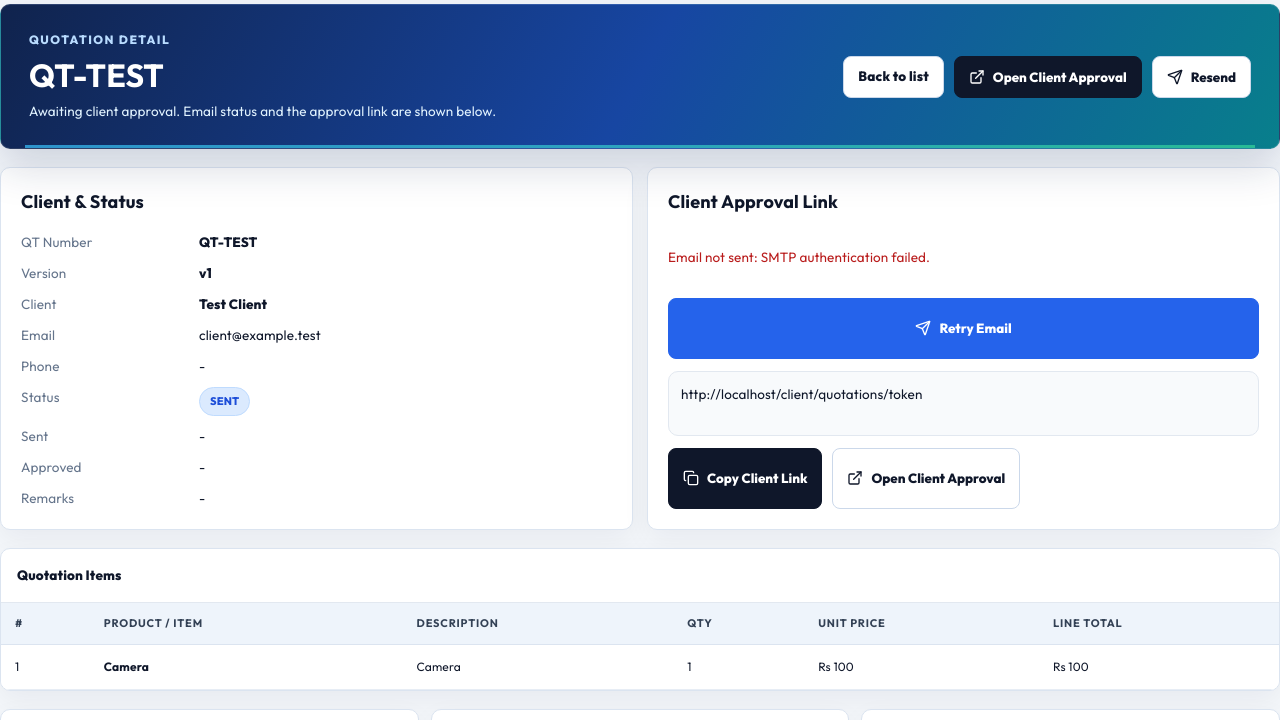
Test case: quotation email and refresh UI › shows a persistent email failure and retries through the backend
Check: the text "Email not sent: SMTP authentication failed." is shown, box [668,248,930,266]
Click the button "Retry Email" at (964, 328), box [668,298,1259,359]
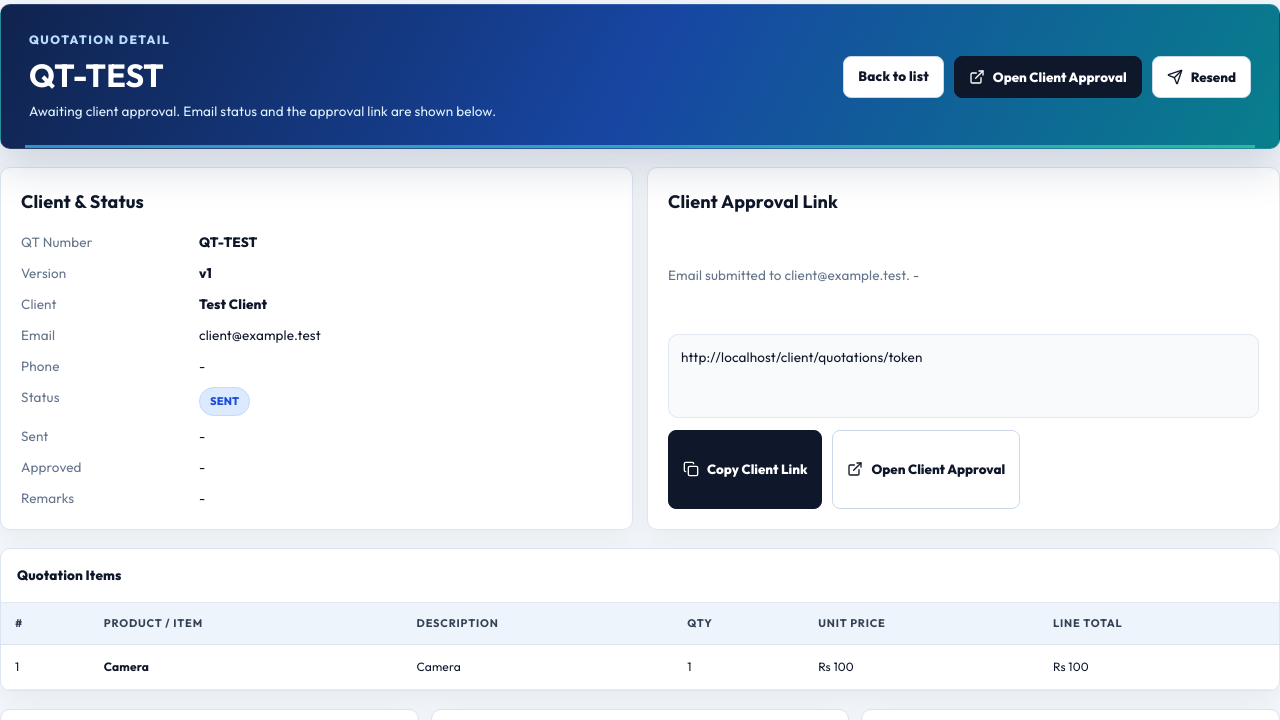
Check: the text "Email submitted to client@example.test. -" is shown, box [668,266,919,284]
